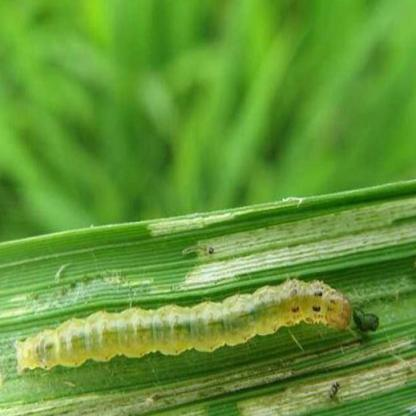leaf-folder: (10, 260, 386, 370)
